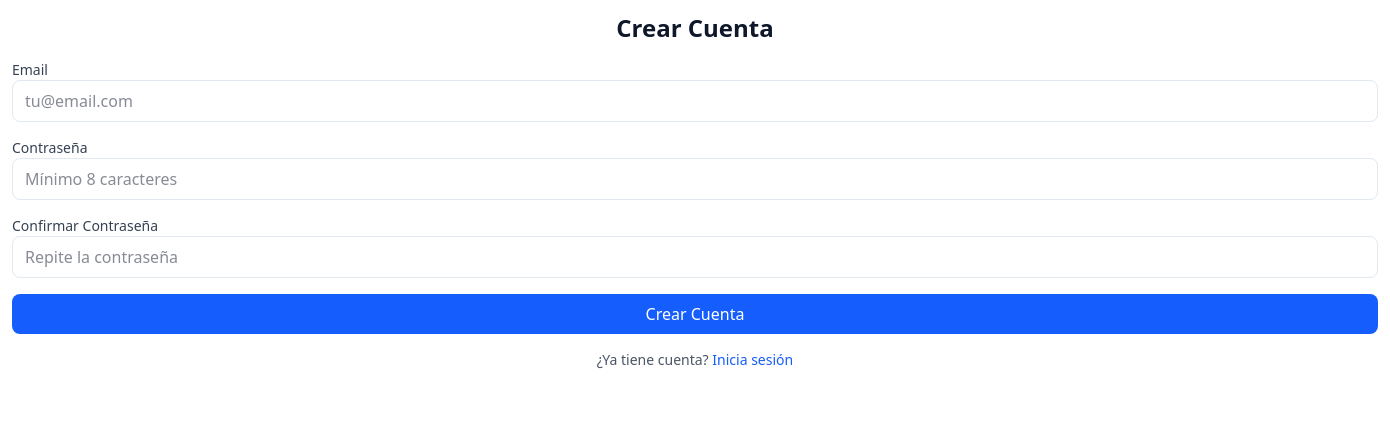
Test: RegisterForm › shows error on short password
Type "test@test.com" into the field labelled "Email" at {"x": 695, "y": 101}, box [12, 80, 1378, 122]
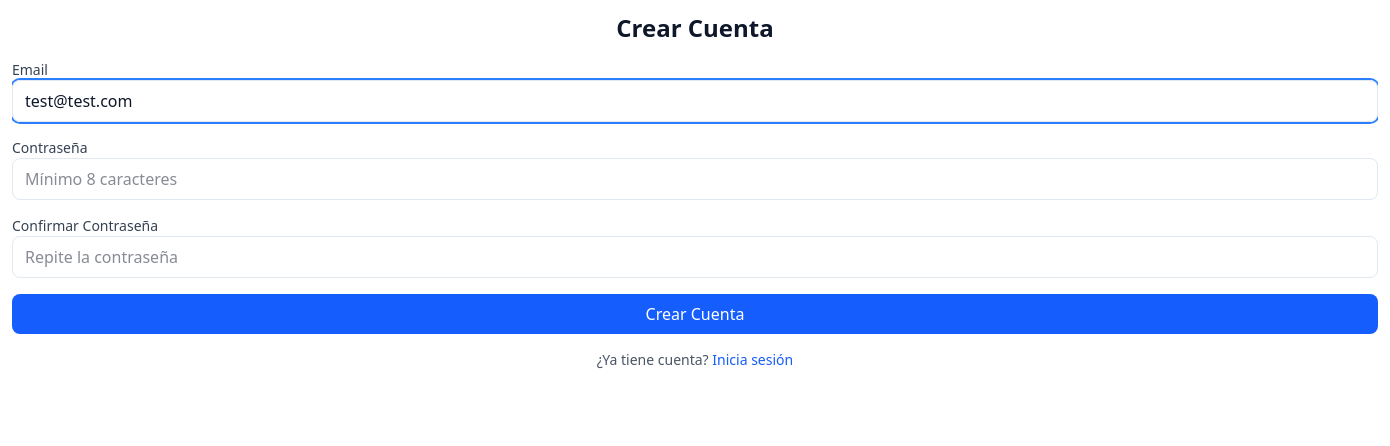
Type "123" into the password field labelled "Contraseña" at {"x": 695, "y": 179}, box [12, 158, 1378, 200]
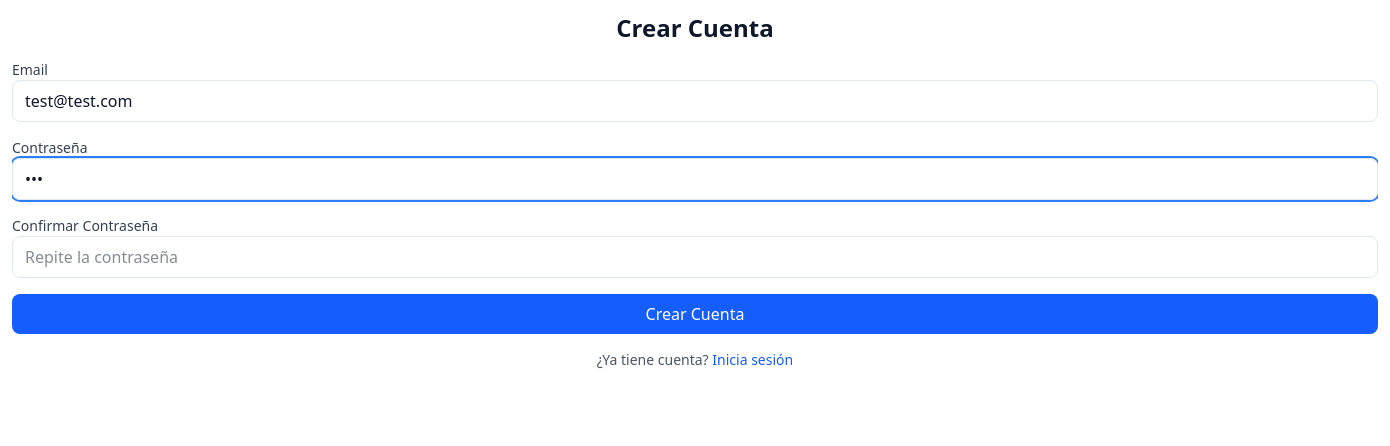
Type "123" into the password field labelled "Confirmar Contraseña" at {"x": 695, "y": 257}, box [12, 236, 1378, 278]
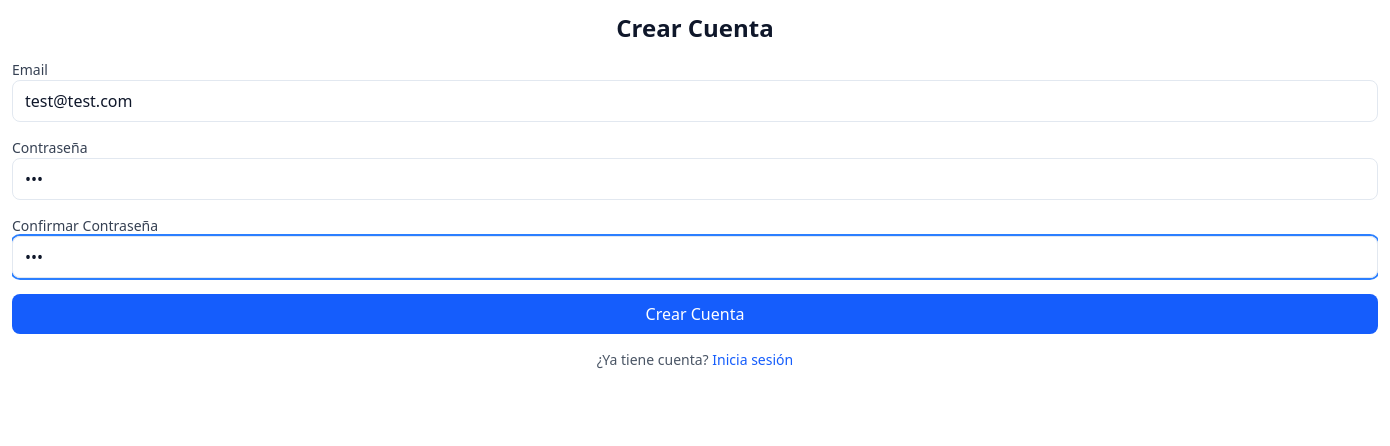
Click the button "Crear Cuenta" at {"x": 695, "y": 314}, box [12, 294, 1378, 334]
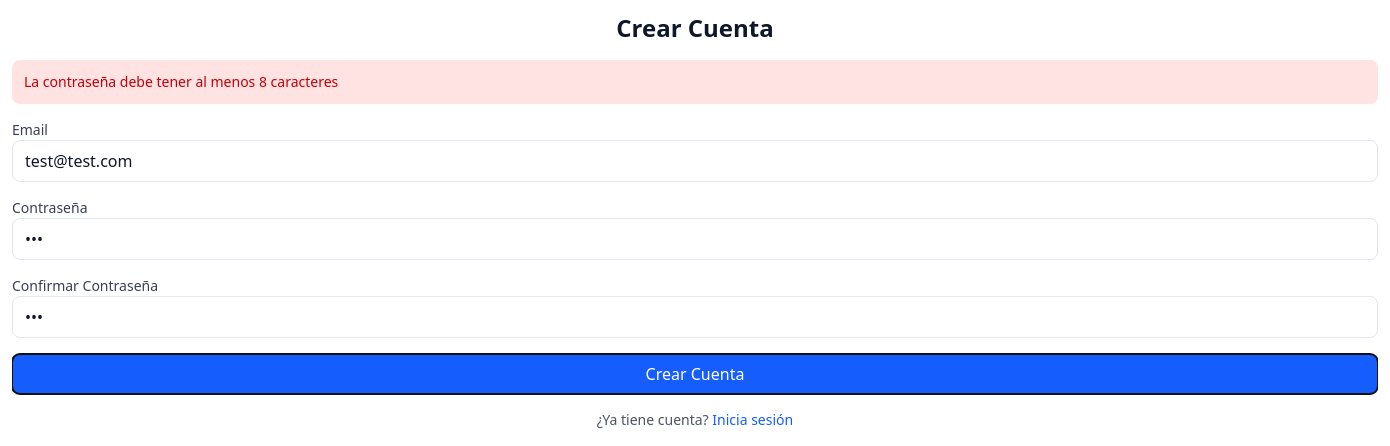
Now the text "La contraseña debe tener al menos 8 caracteres" is shown, box [12, 60, 1378, 104]
